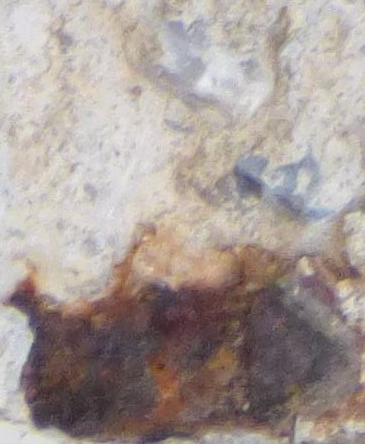Corrosion: (1, 222, 365, 444)
